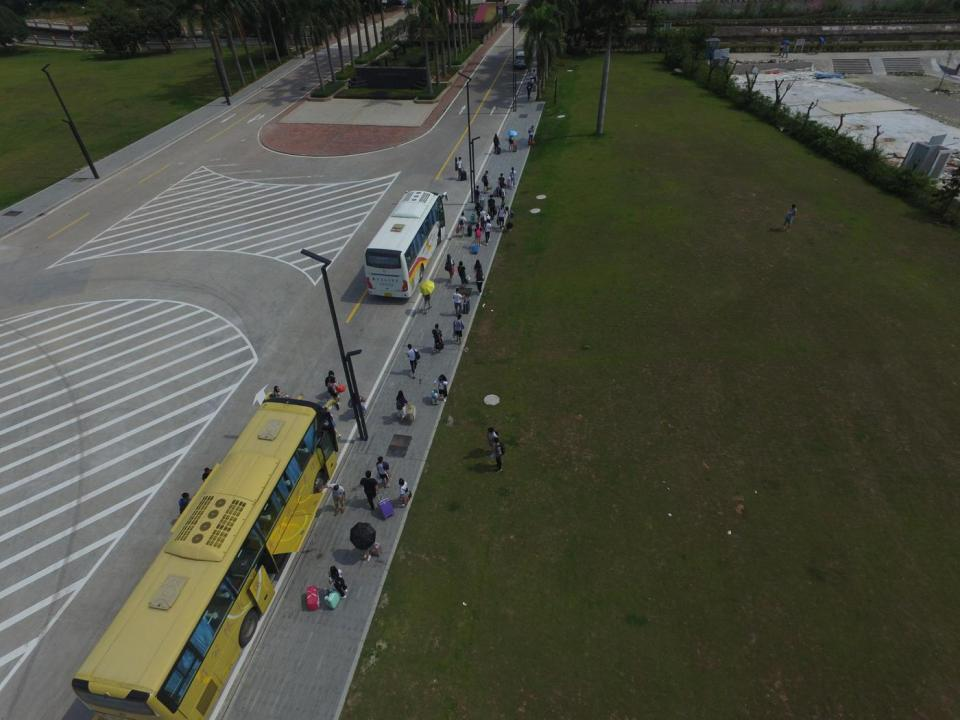bus: (69, 397, 344, 720), (363, 190, 448, 298)
car: (513, 49, 529, 68)
